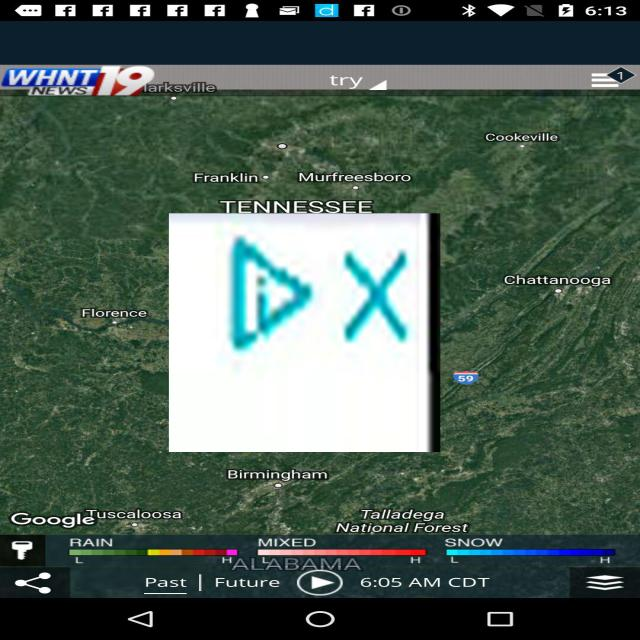sneaking: (169, 213, 440, 452)
